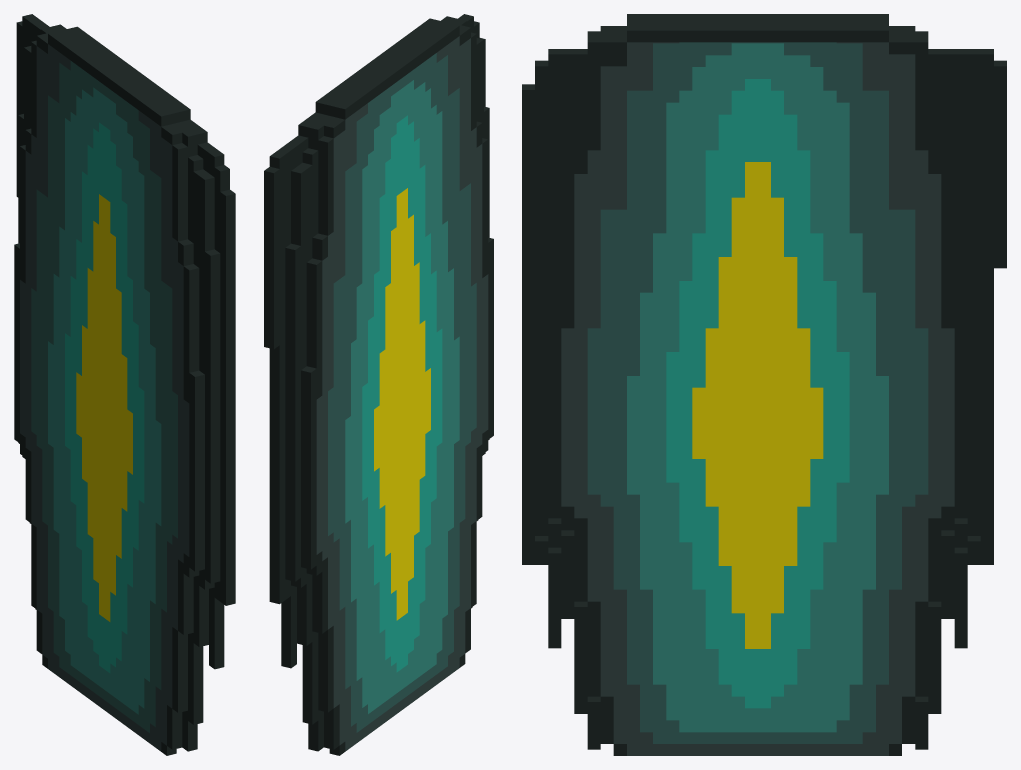
Rendered from medved-0.obj.
3 renders of one model, left to right at view 1: azimuth 30°, elevation 25°; view 2: azimuth 150°, elevation 25°; view 3: azimuth 270°, elevation 25°, orthographic. The views are drawn at different scales.
Bounding box in the file's own units: 0.3 × 6.2 × 3.7.
Materials: 1 (1 with a texture image).
